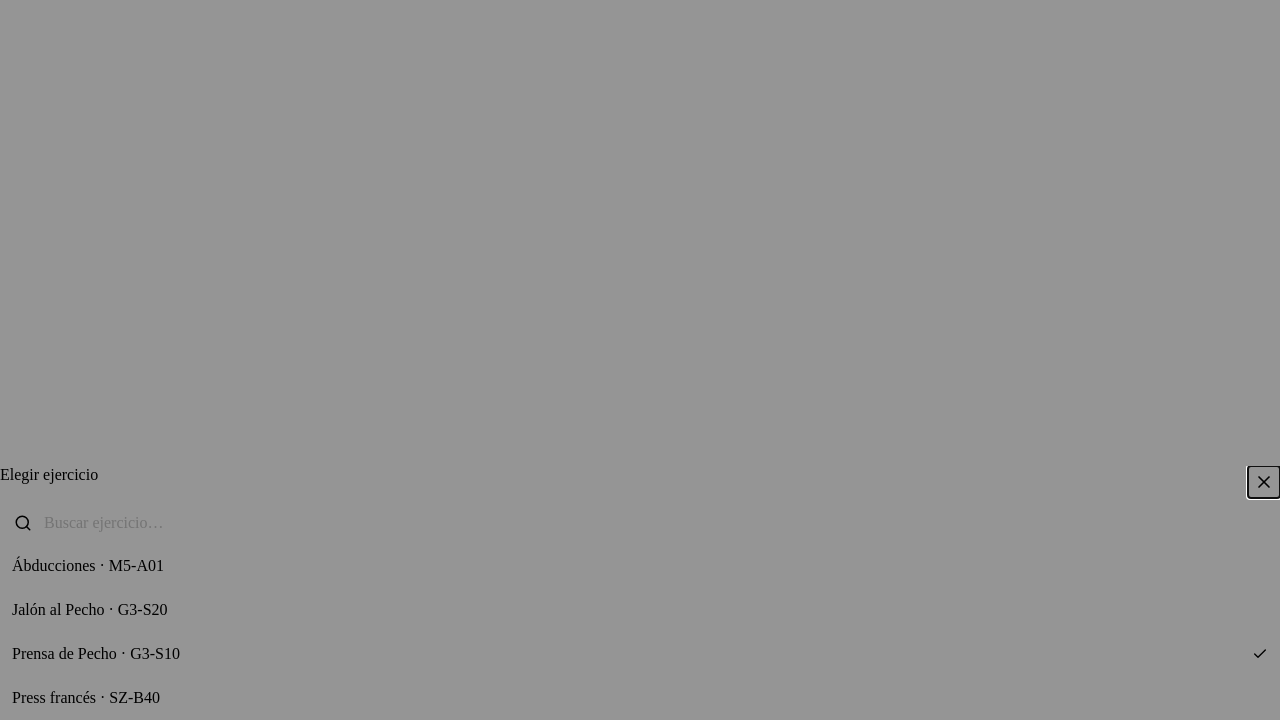
ExercisePickerSheet — search (AC12, OQ3 diacritic-insensitive by reuse) › announces no-results once via role=status, naming the query
This screenshot has width=1280, height=720.
Type "zzzz" into the field labelled "Buscar ejercicio…" at [654, 523], box [42,513,1266,533]
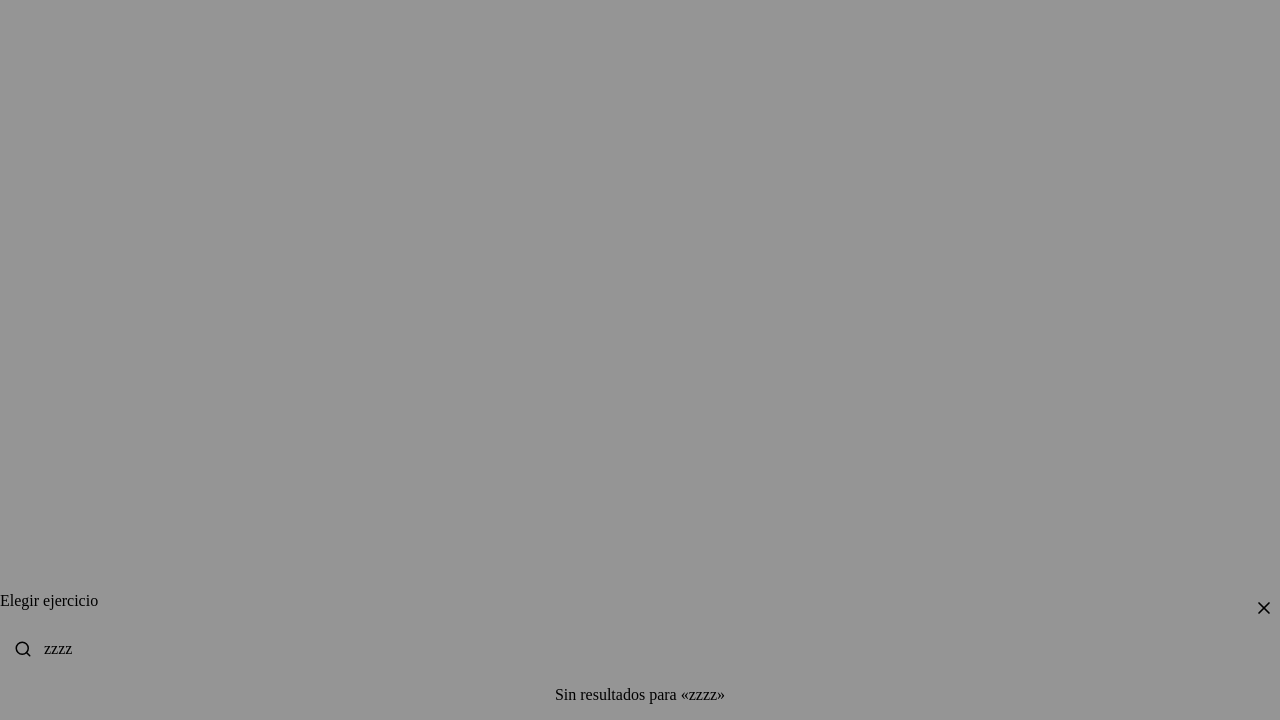
Now the message shows "zzzz", box [555,686,725,703]
